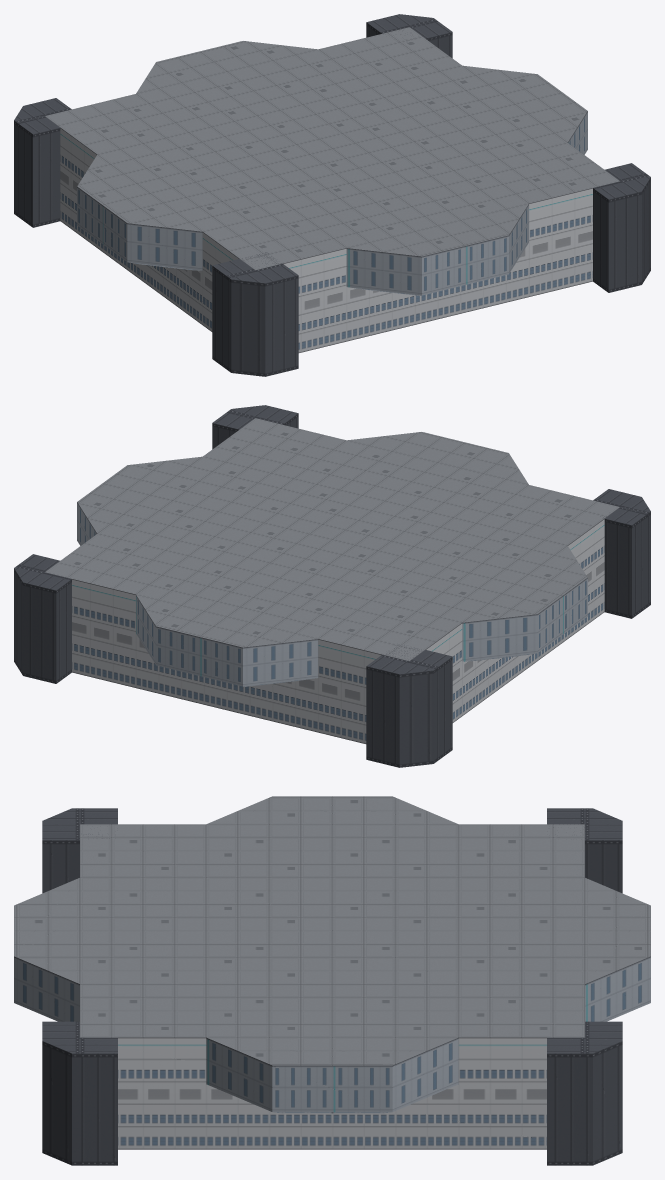
Rendered from BLD_FLR_W_FromN.fbx.
3 renders of one model, top to bottom at view 1: azimuth 30°, elevation 25°; view 2: azimuth 150°, elevation 25°; view 3: azimuth 270°, elevation 25°, orthographic. The views are drawn at different scales.
Visible parts, largest first — view 1: BLD_FLR_W_FromN; view 2: BLD_FLR_W_FromN; view 3: BLD_FLR_W_FromN.
Boxes of the visible parts, <box> form: BLD_FLR_W_FromN: <box>14,14,650,376</box>; BLD_FLR_W_FromN: <box>14,405,650,767</box>; BLD_FLR_W_FromN: <box>14,796,650,1165</box>.
Bounding box in the file's own units: 126 × 24.5 × 126.
